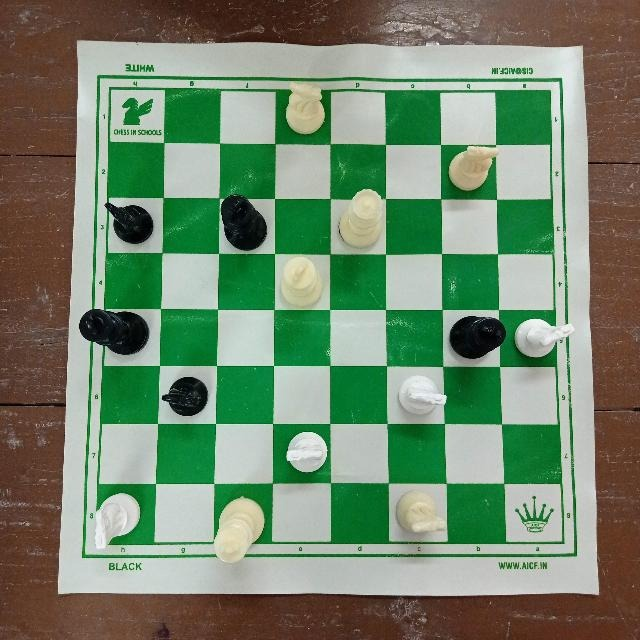black-king: (77, 304, 153, 360), (446, 307, 509, 364), (217, 191, 269, 253)
black-knight: (99, 193, 160, 250), (159, 370, 212, 420)
white-king: (208, 495, 265, 566), (277, 254, 331, 309)
white-knight: (88, 490, 145, 554), (445, 140, 501, 195), (509, 316, 578, 360), (392, 489, 453, 537), (282, 80, 326, 142), (279, 429, 331, 475), (396, 377, 450, 421)
white-queen: (336, 184, 386, 250)
